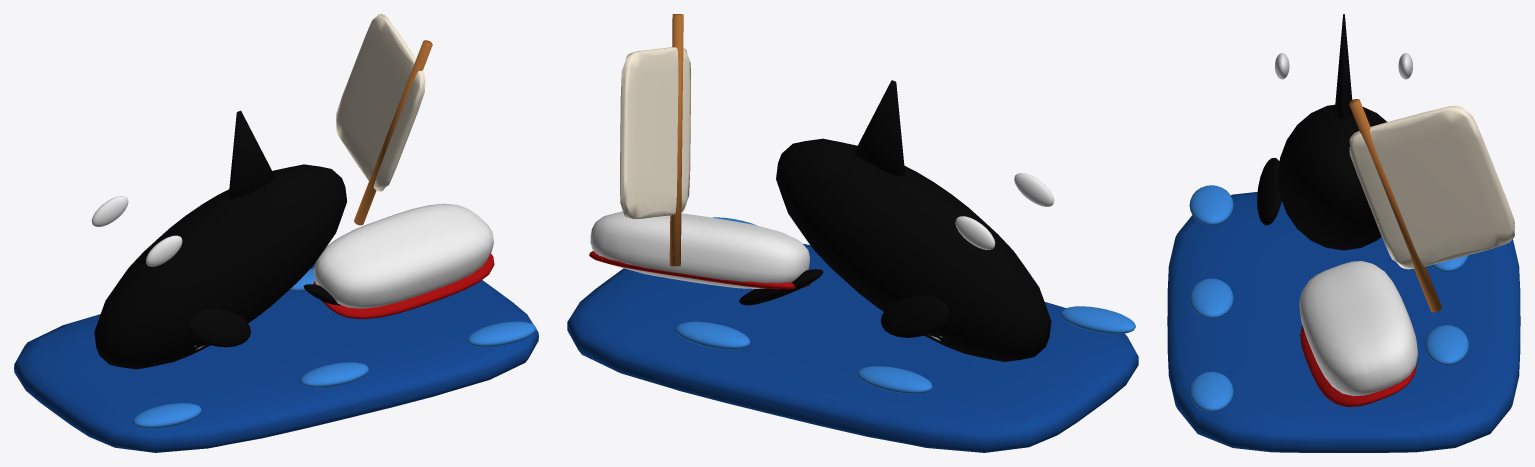
Rendered from OrcaRebellionBoat.fbx.
3 views of the same model, side by side, from view 1: azimuth 30°, elevation 25°; view 2: azimuth 150°, elevation 25°; view 3: azimuth 270°, elevation 25° (orthographic). The views are drawn at different scales.
Parts seen in each view (by area): view 1: OrcaRebellionBoat; view 2: OrcaRebellionBoat; view 3: OrcaRebellionBoat.
Part boxes in pixels (bbox=[...]): OrcaRebellionBoat: bbox=[14, 14, 538, 452]; OrcaRebellionBoat: bbox=[567, 14, 1138, 452]; OrcaRebellionBoat: bbox=[1167, 14, 1520, 452].
Size of the model in its own units: 4.01 by 2.46 by 2.4.
Materials: 1 (1 with a texture image).
